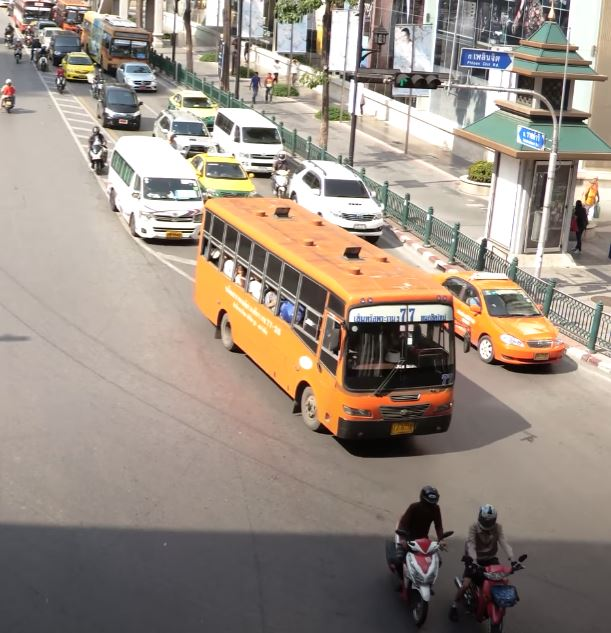Bus: (191, 195, 456, 440), (106, 136, 205, 244), (213, 108, 286, 180), (81, 11, 151, 73), (13, 1, 53, 33), (55, 1, 92, 34)
Car: (435, 268, 569, 370), (291, 157, 385, 239), (186, 153, 257, 201), (152, 110, 217, 157), (97, 82, 143, 130), (168, 90, 219, 128), (116, 62, 158, 93), (61, 51, 96, 82), (50, 32, 82, 64)
Motorcycle: (453, 502, 530, 633), (386, 484, 455, 627), (87, 124, 108, 175), (271, 151, 292, 200), (1, 76, 16, 113), (87, 68, 105, 97), (36, 44, 50, 71), (12, 38, 26, 65), (55, 62, 67, 93)
